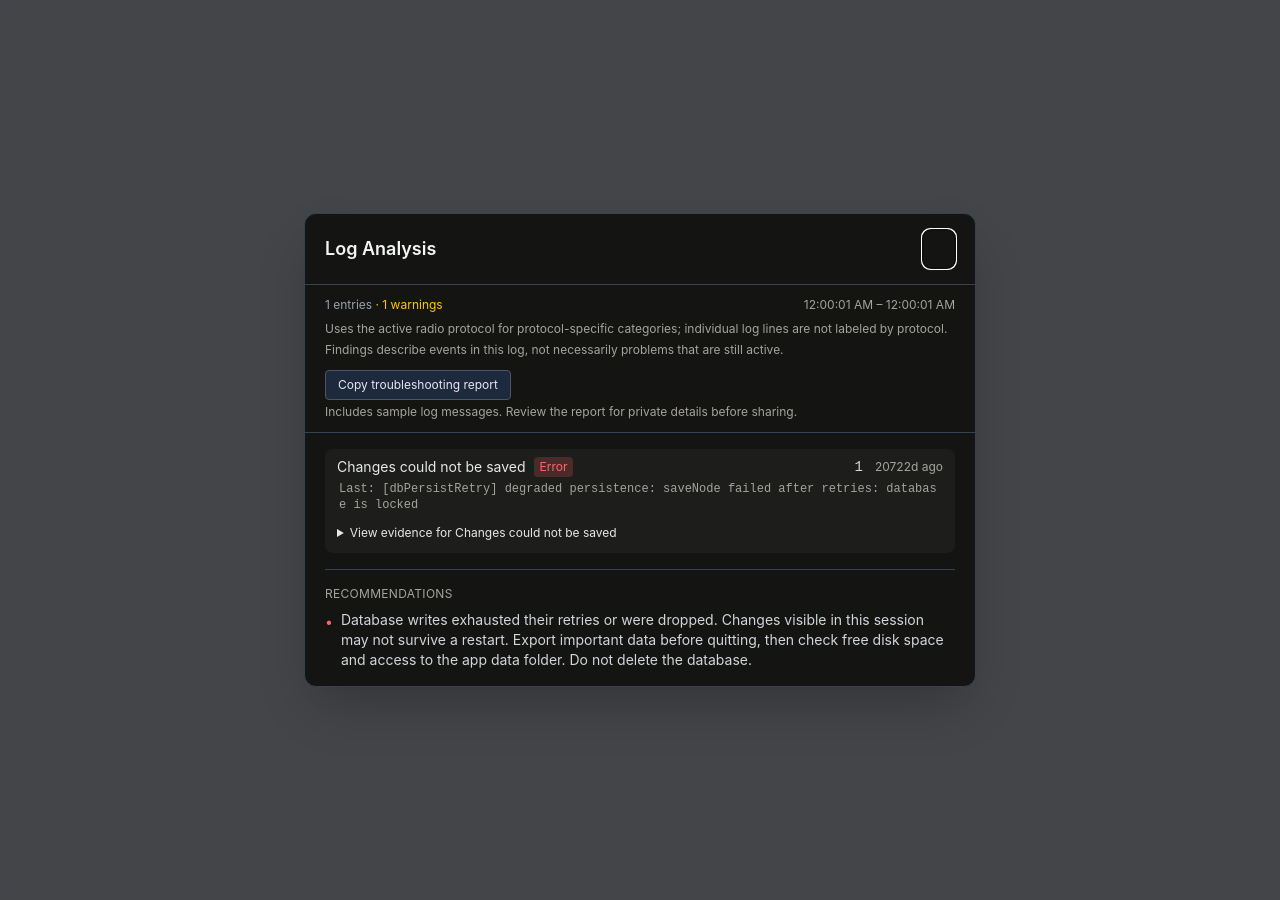
Test: log analysis evidence and report › copies a report only after a click and announces success
What coordinates should you click on to do the following:
click the button "Copy troubleshooting report"
I would click on:
 (418, 385)
Its box is [325,370,511,400].
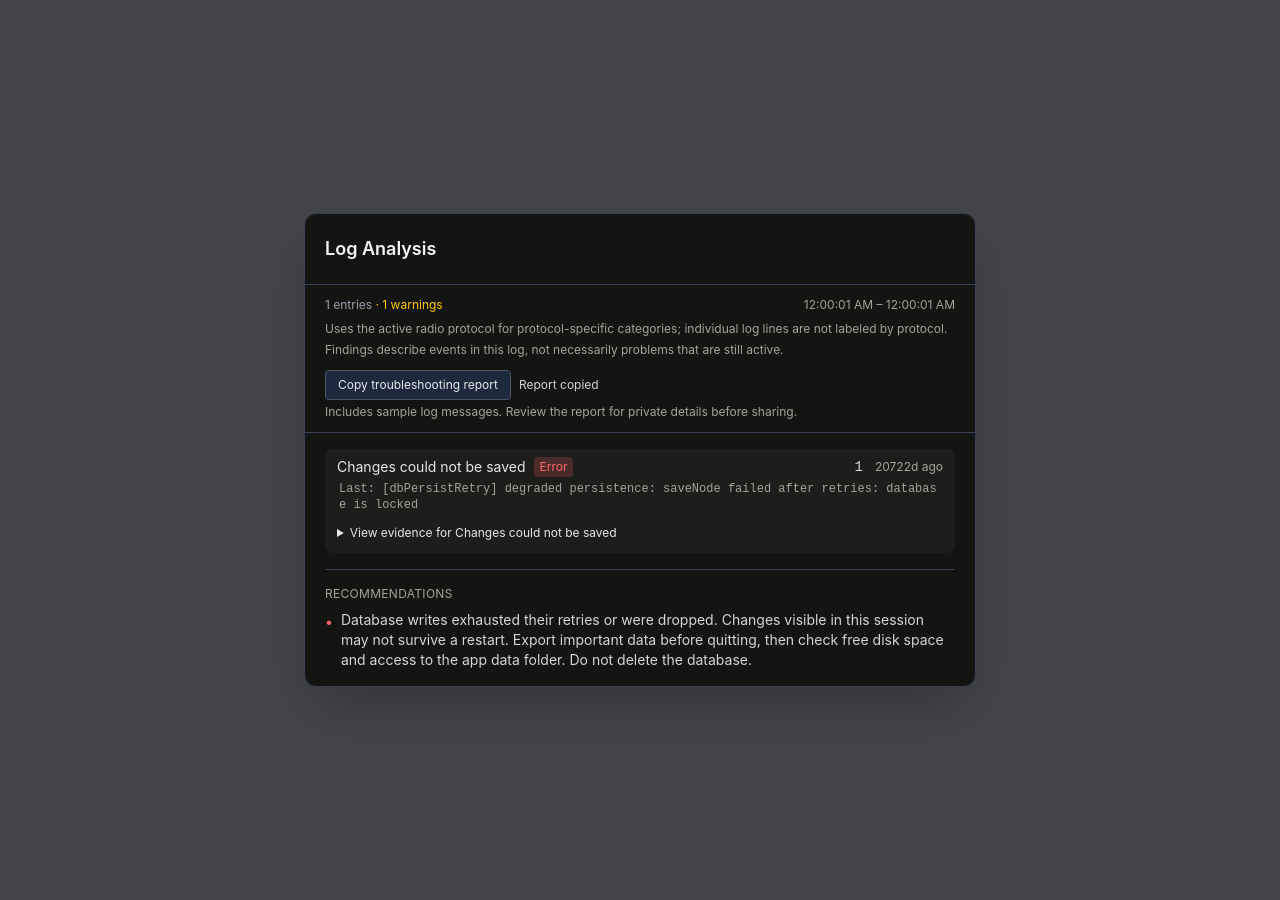
Expected: the message reads "Report copied", [519,377,599,392]
